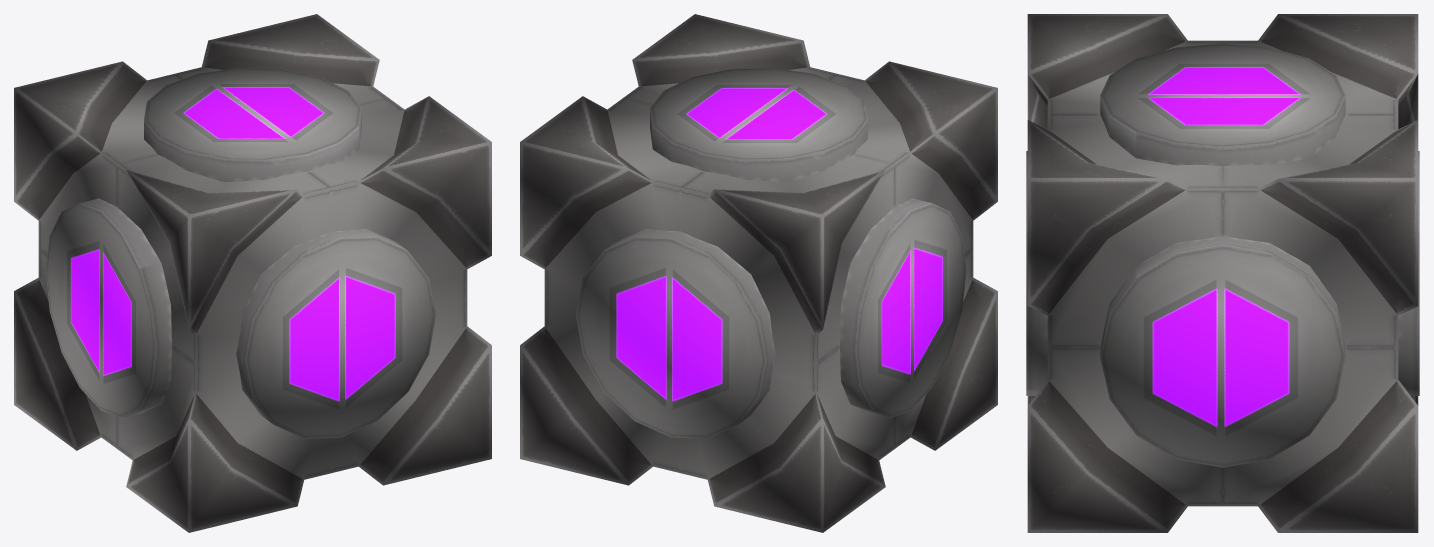
The model's file is CubeHexagon.glb.
3 renders of one model, left to right at view 1: azimuth 30°, elevation 25°; view 2: azimuth 150°, elevation 25°; view 3: azimuth 270°, elevation 25°, orthographic. The views are drawn at different scales.
Parts seen in each view (by area): view 1: Cube.009; view 2: Cube.009; view 3: Cube.009.
Part boxes in pixels (bbox=[...]): Cube.009: bbox=[14, 14, 491, 532]; Cube.009: bbox=[520, 14, 997, 532]; Cube.009: bbox=[1026, 14, 1419, 532].
Bounding box in the file's own units: 1.57 × 1.57 × 1.57.
1 material, 1 textured.
